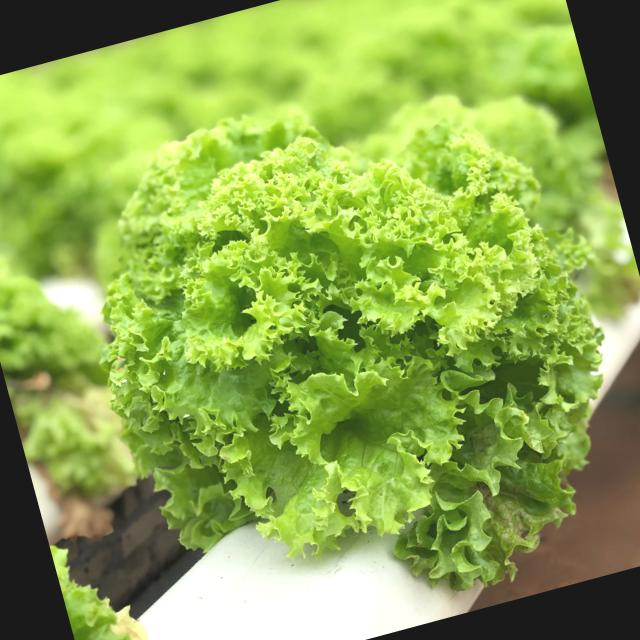lista_para_cosechar: (107, 122, 600, 589)
